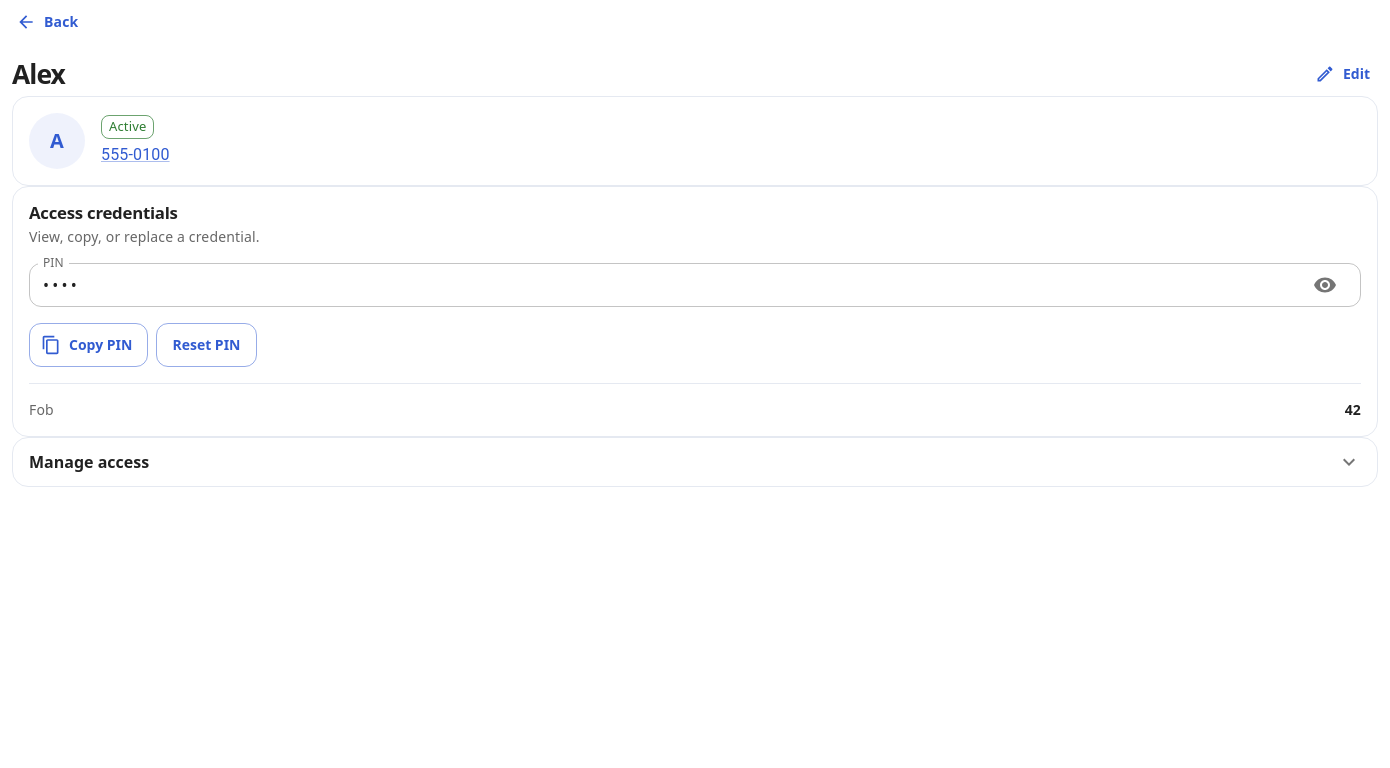
staff workflows › reveals and copies a PIN, with persistent inline recovery when copying fails
Expected: the password field labelled "PIN" holds "1234", [29,265,1295,305]
Click the button named "Reveal PIN".
click(1325, 285)  # box [1303,263,1347,307]
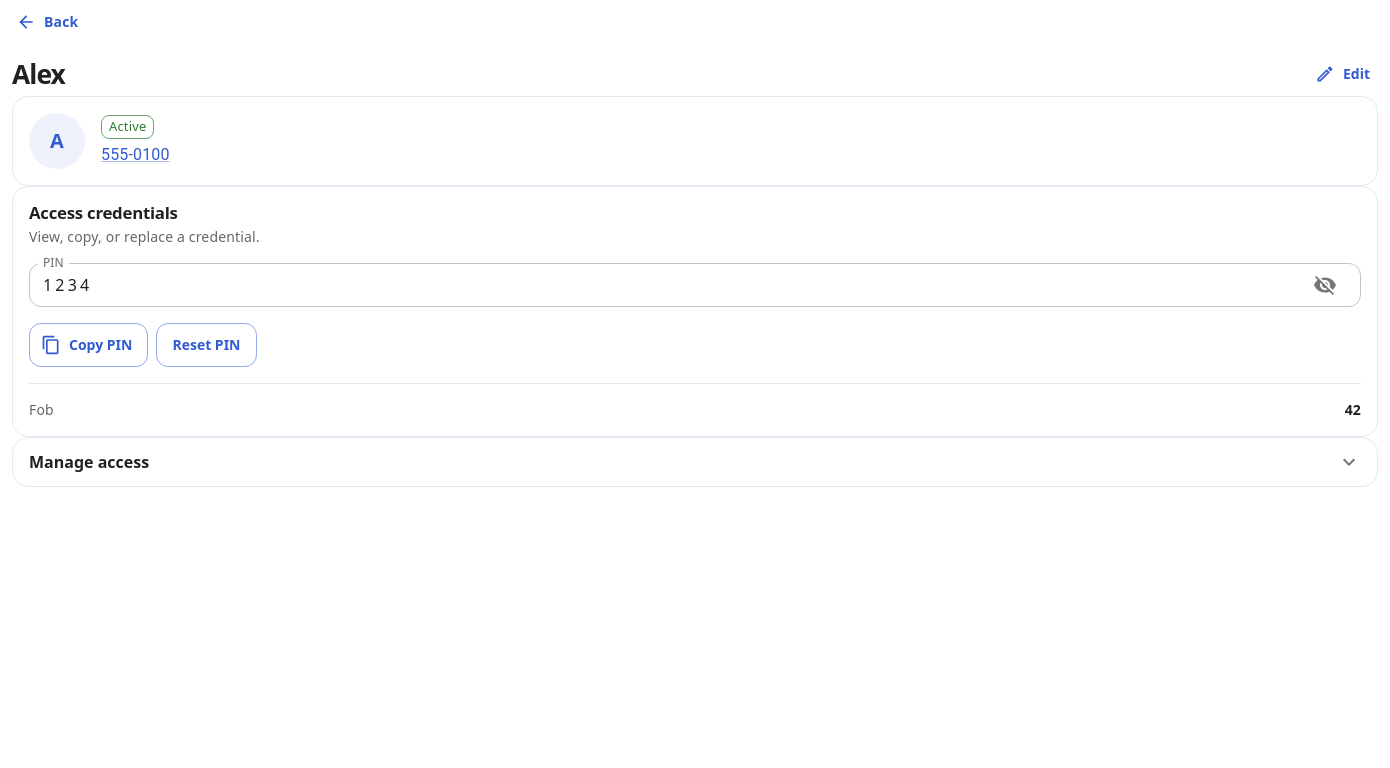
Expected: the field labelled "PIN" shows its text, [29,265,1295,305]
Click the button "Copy PIN".
click(89, 345)  # box [29,323,148,367]
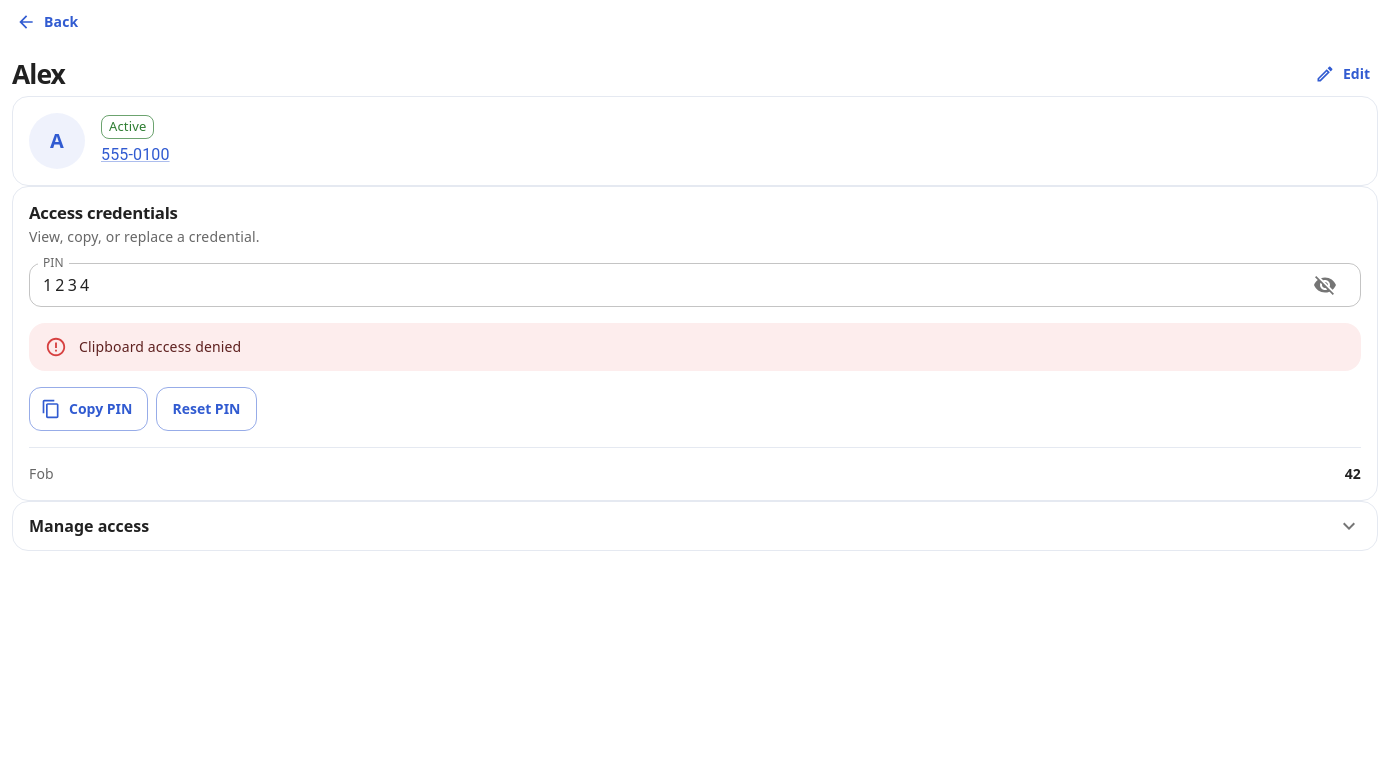
Expected: the message "Clipboard access denied" is shown, [29,323,1361,371]
Click the button "Copy PIN".
click(89, 409)  # box [29,387,148,431]
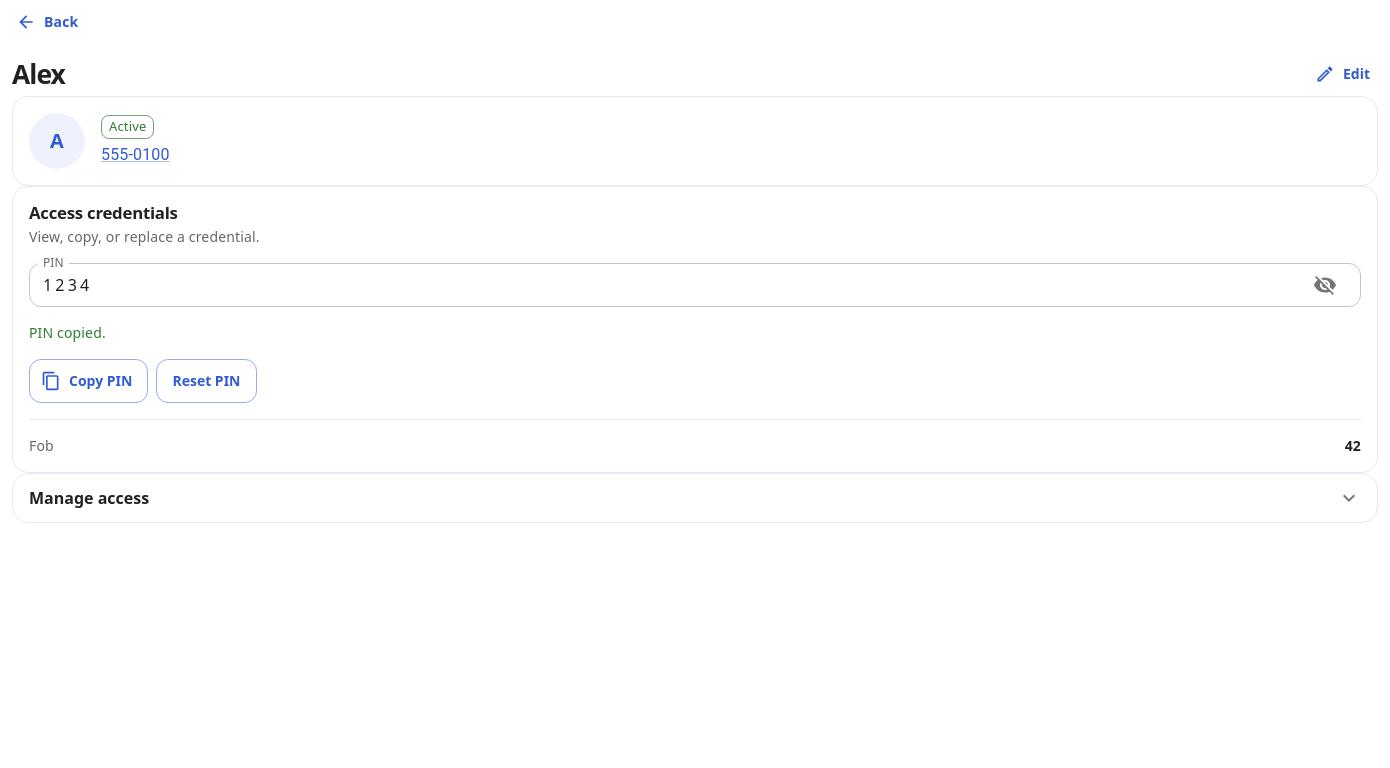
Expected: the message "Clipboard access denied" is gone
Expected: the message "PIN copied." is shown, [29,323,106,342]
